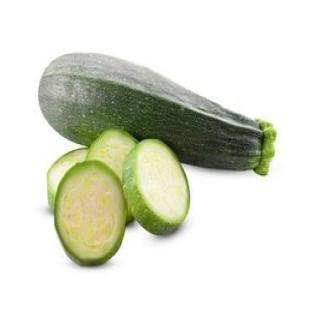Zucchini: (39, 54, 275, 175), (54, 161, 126, 265), (123, 140, 190, 233), (87, 129, 137, 181), (48, 148, 87, 209)
